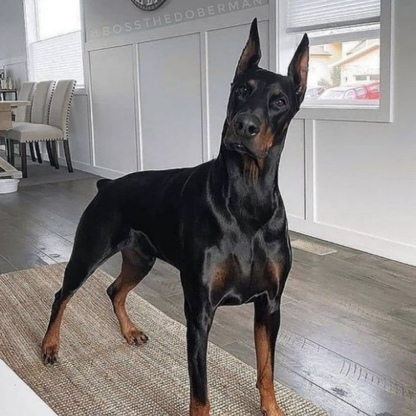doberman: (44, 16, 311, 414)
